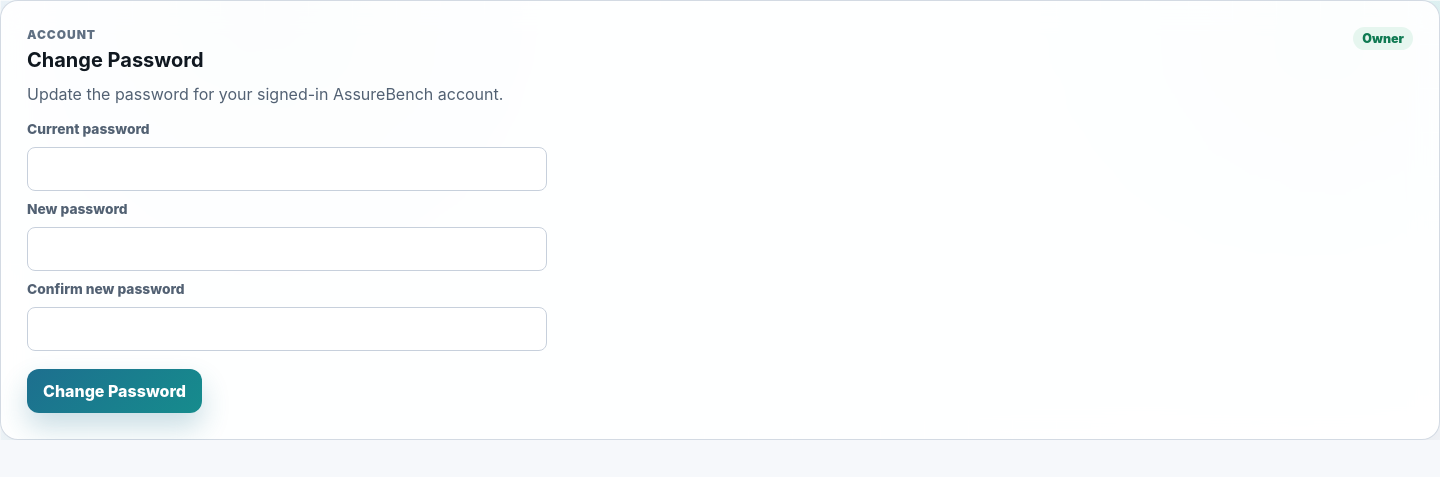
Test: dashboard pages › Change Password validation works
The image size is (1440, 477).
Click the button "Change Password".
click(114, 391)  # box left=27, top=369, right=202, bottom=413
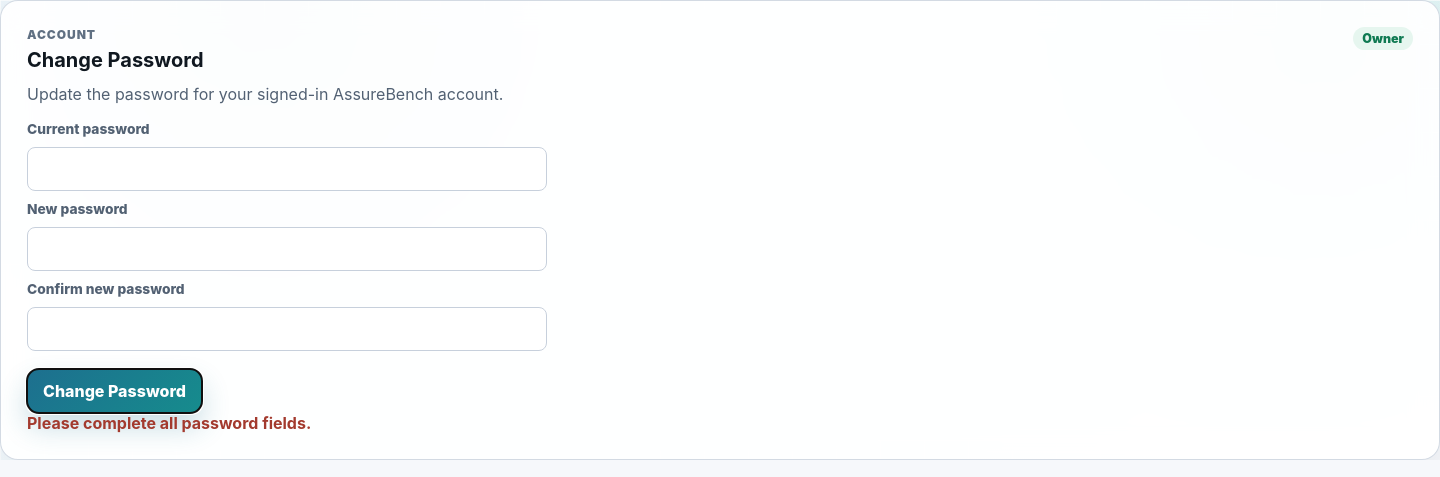
Result: the text "Please complete all password fields." is shown at left=27, top=413, right=311, bottom=433
